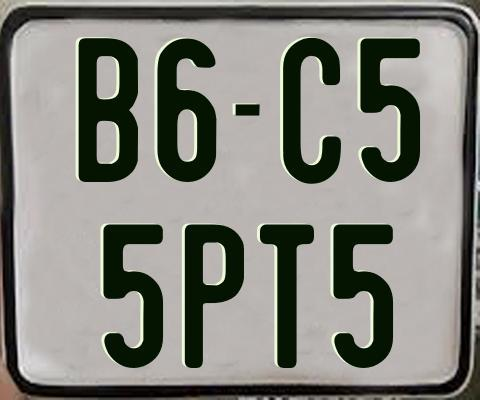5: (332, 222, 398, 369), (100, 223, 165, 371), (357, 38, 418, 184)
6: (157, 38, 218, 185)
B: (77, 35, 139, 182)
C: (283, 35, 344, 184)
P: (183, 221, 243, 365)
T: (260, 221, 314, 366)
